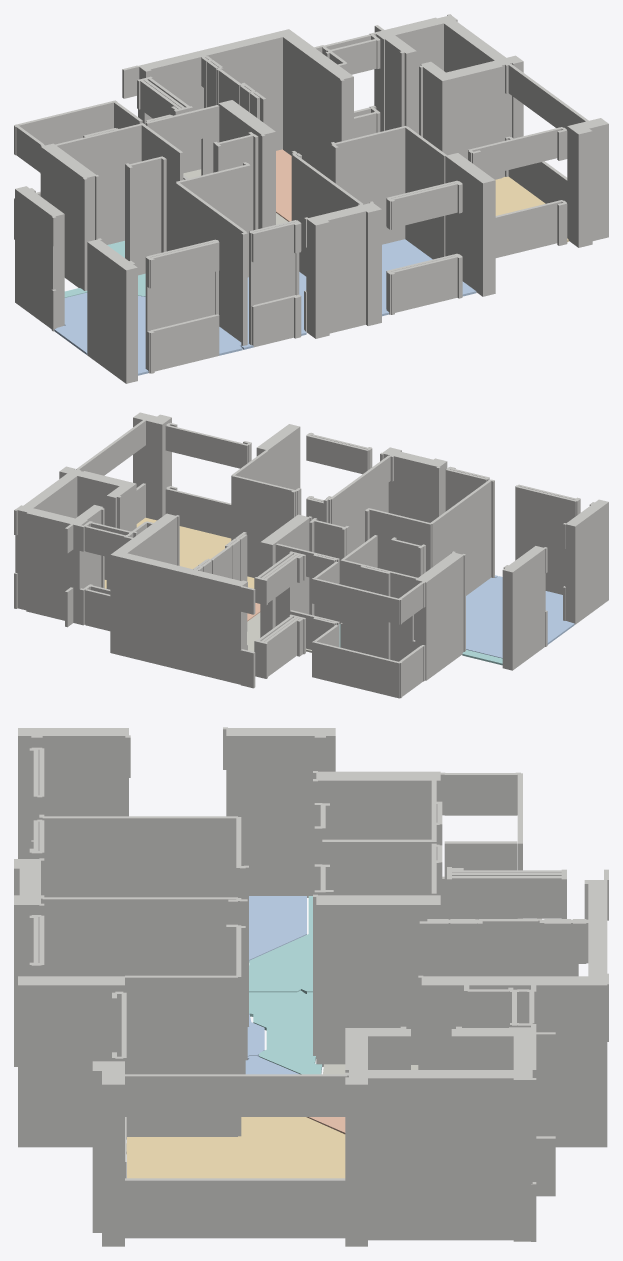
3 views of the same model, one above another, from view 1: azimuth 30°, elevation 25°; view 2: azimuth 150°, elevation 25°; view 3: azimuth 270°, elevation 25° (orthographic). The views are drawn at different scales.
Visible parts, largest first — view 1: walls, room:bedroom:3, room:bedroom:9, room:living:8, room:kitchen:4; view 2: walls, room:bedroom:3, room:living:8, room:yard:0; view 3: walls, room:living:8, room:bath:6, room:bath:2, room:bedroom:3.
Part boxes in pixels (x1,y1,x2,y2): walls: (14, 14, 608, 383); room:bedroom:3: (54, 292, 242, 375); room:bedroom:9: (382, 239, 476, 316); room:living:8: (495, 176, 568, 241); room:kitchen:4: (276, 149, 291, 221); walls: (14, 412, 608, 698); room:bedroom:3: (466, 576, 574, 658); room:living:8: (104, 517, 254, 588); room:yard:0: (247, 612, 311, 652); walls: (14, 727, 608, 1246); room:living:8: (126, 1117, 345, 1178); room:bath:6: (249, 991, 322, 1074); room:bath:2: (249, 896, 312, 993); room:bedroom:3: (249, 896, 306, 962).
Bounding box in the file's own units: 13.25 × 2.8 × 9.32.
